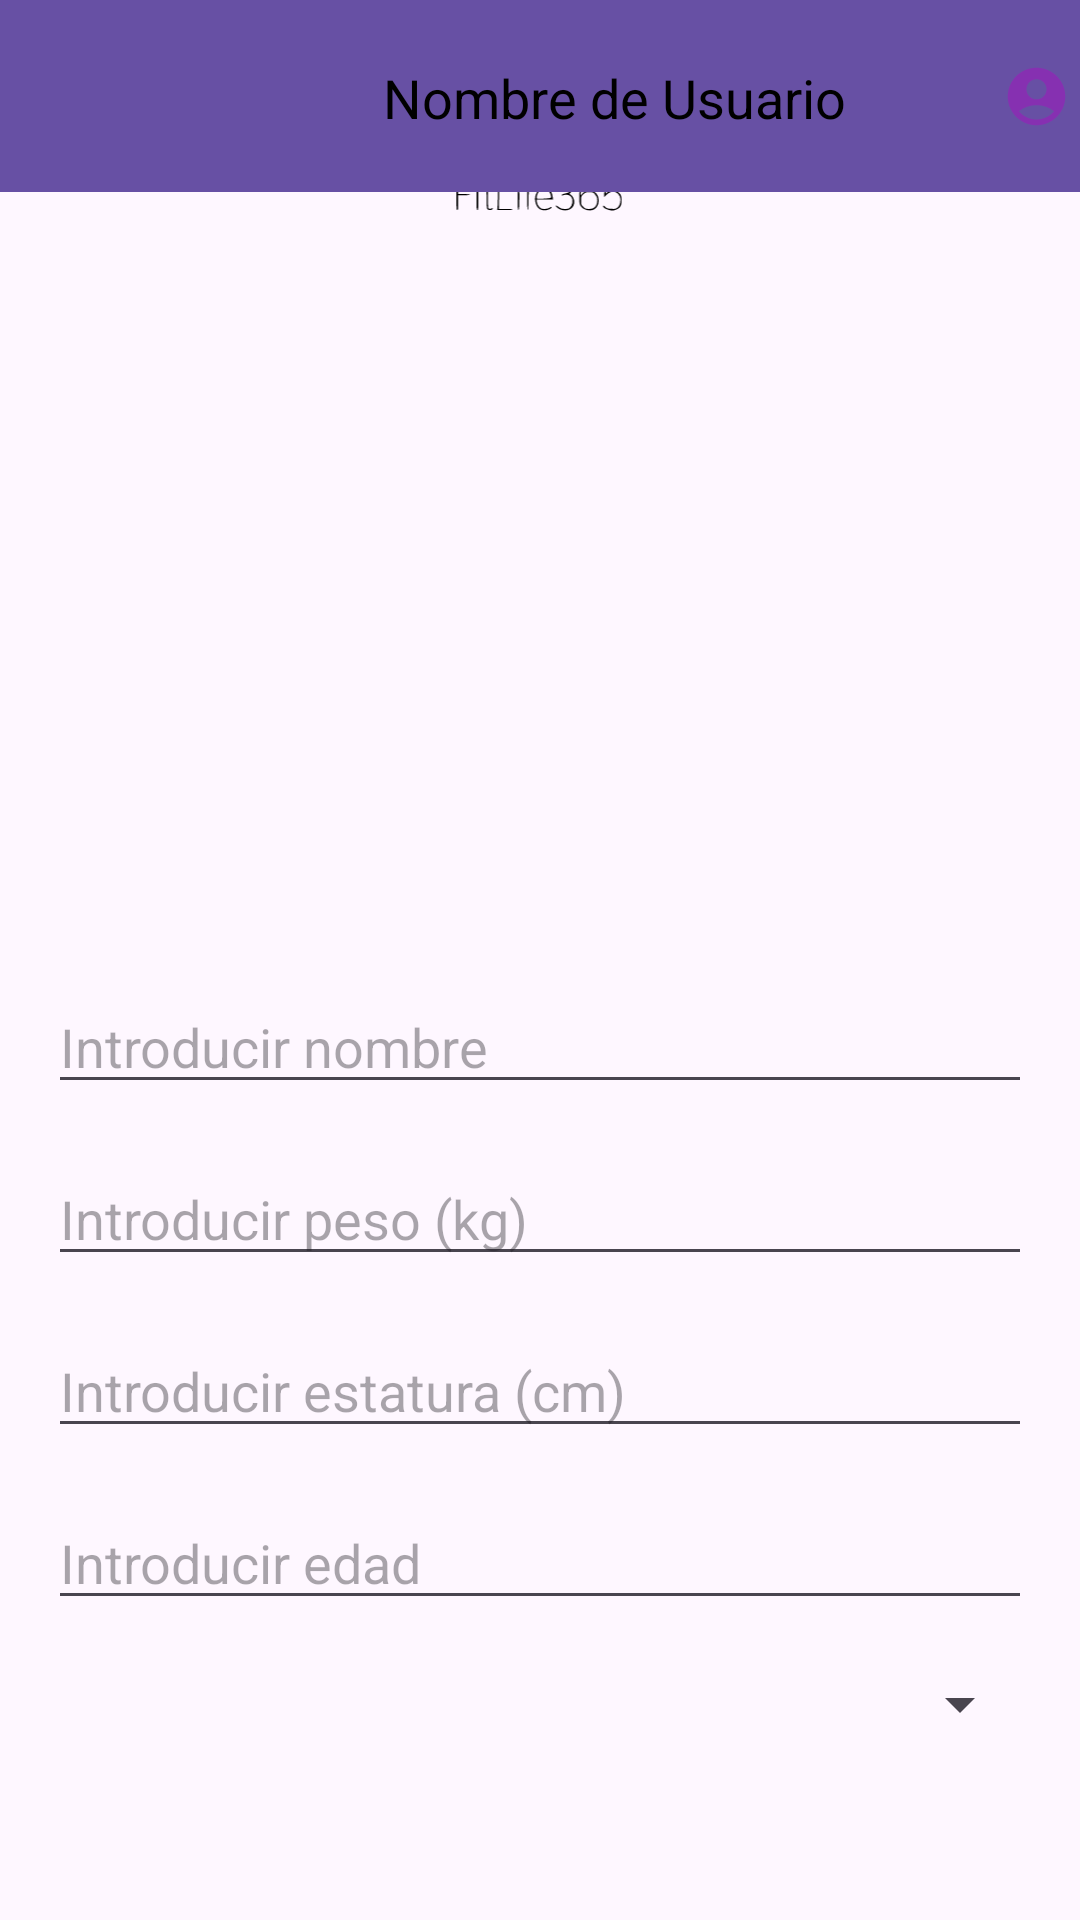

Icon bounding boxes for this 1080px x 1920px phone screenshot, format (left=x1, top=y1, right=x2, bottom=y2):
perfil: (left=1008, top=68, right=1065, bottom=125)
